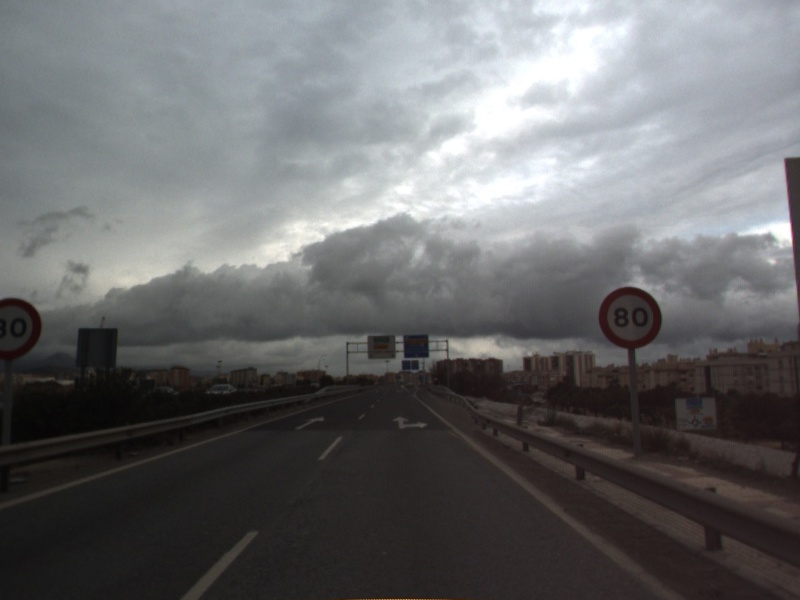STRAIGHT: (292, 414, 327, 432)
STRAIGHT_RIGHT: (390, 414, 430, 431)
